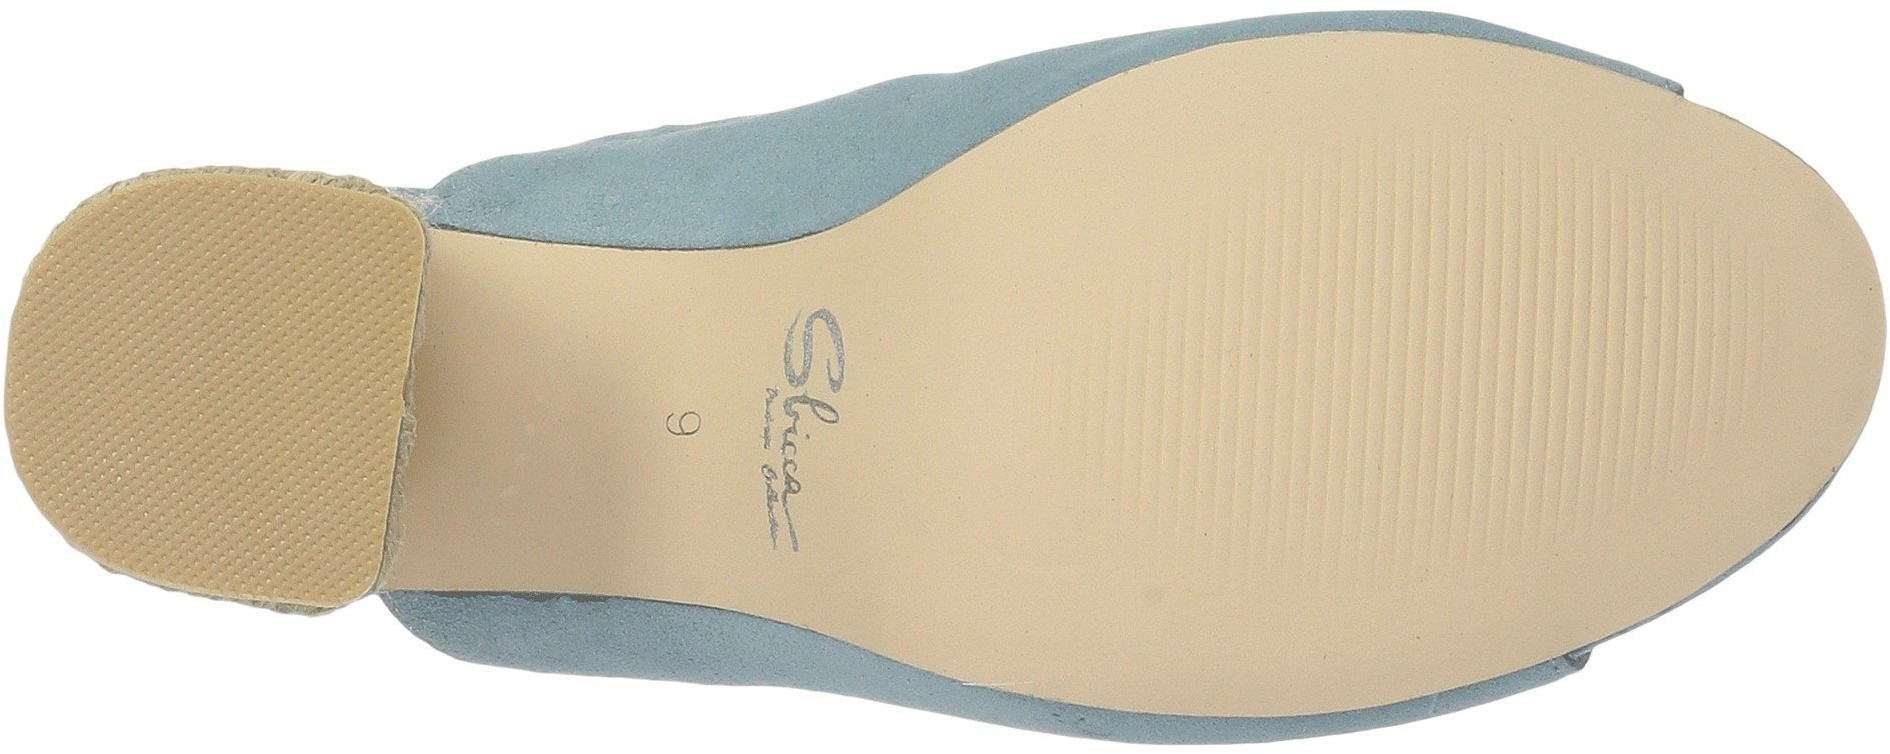other: (71, 245, 385, 535), (1331, 211, 1593, 497), (1050, 279, 1330, 535), (1597, 214, 1785, 399), (868, 496, 1043, 661), (868, 214, 1043, 372), (1129, 571, 1285, 712), (1087, 86, 1207, 187)
text: (644, 298, 862, 579)
